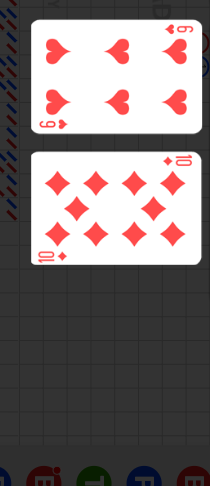10D: (37, 249, 69, 263)
6H: (163, 23, 195, 36)
